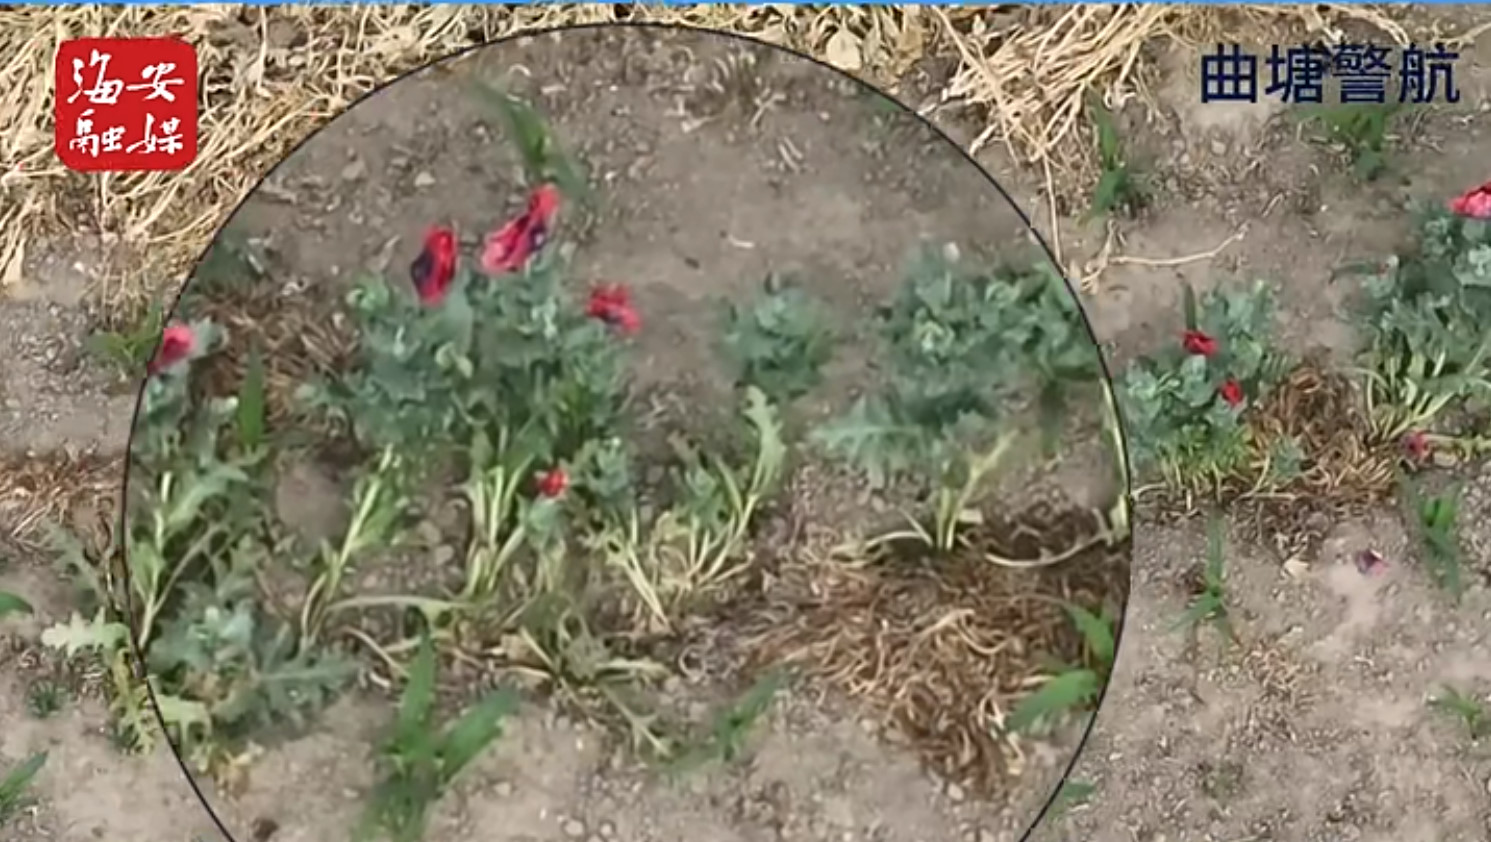Poppy: (337, 155, 648, 652), (695, 215, 1085, 557), (59, 310, 334, 731), (1332, 164, 1491, 458), (1104, 273, 1306, 494)
